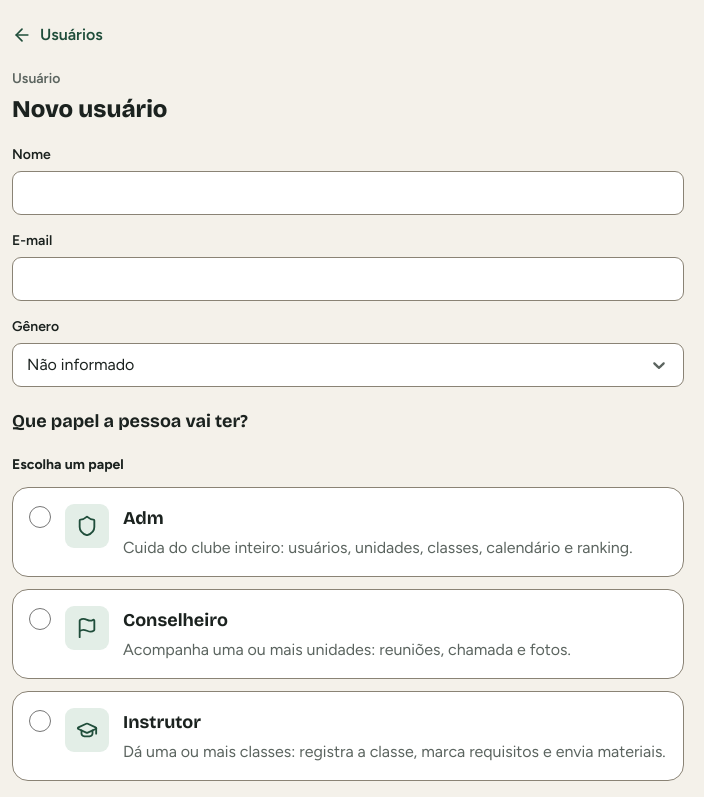
Scenario: novo usuário: convidar numa tela só › dados em cima; a pergunta do papel passa de "a pessoa" para o primeiro nome; três cartões, nenhum marcado nem "já tem"
Expected: the field labelled "E-mail" is shown, x1=12 y1=257 x2=684 y2=301
Expected: the dropdown labelled "Gênero" is shown, x1=27 y1=353 x2=31 y2=377
In the field labelled "Nome": {"x": 348, "y": 193} x1=12 y1=171 x2=684 y2=215, type "Rui Novo"
(page scrolled)
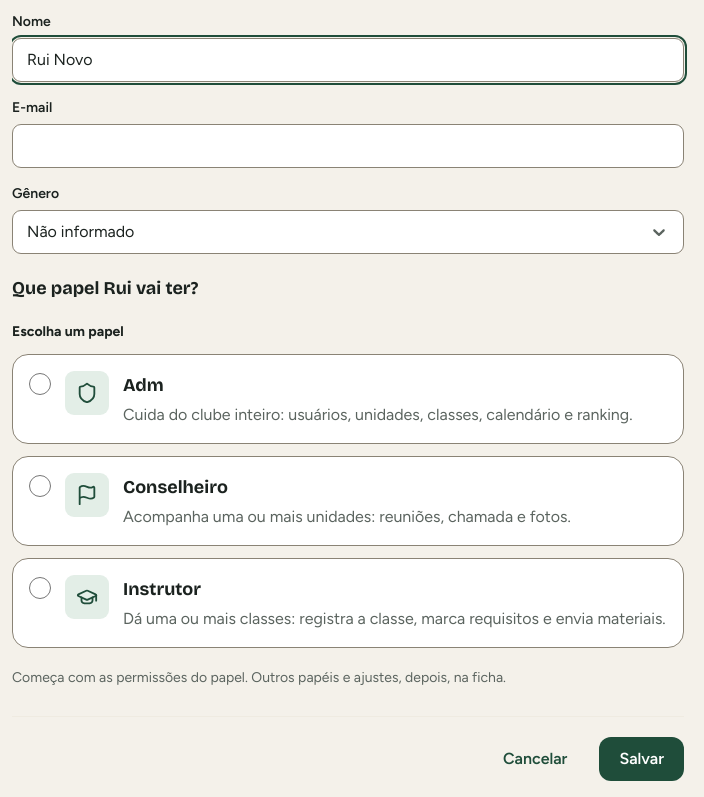
Expected: the number of radio buttons is 3, x1=29 y1=373 x2=51 y2=395; x1=29 y1=475 x2=51 y2=497; x1=29 y1=577 x2=51 y2=599
Expected: the heading "Que papel Rui vai ter?" is shown, x1=12 y1=277 x2=198 y2=299
